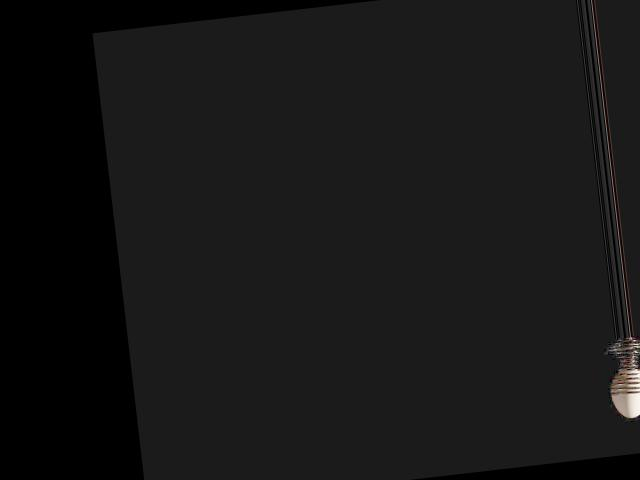egg: (609, 367, 640, 420)
